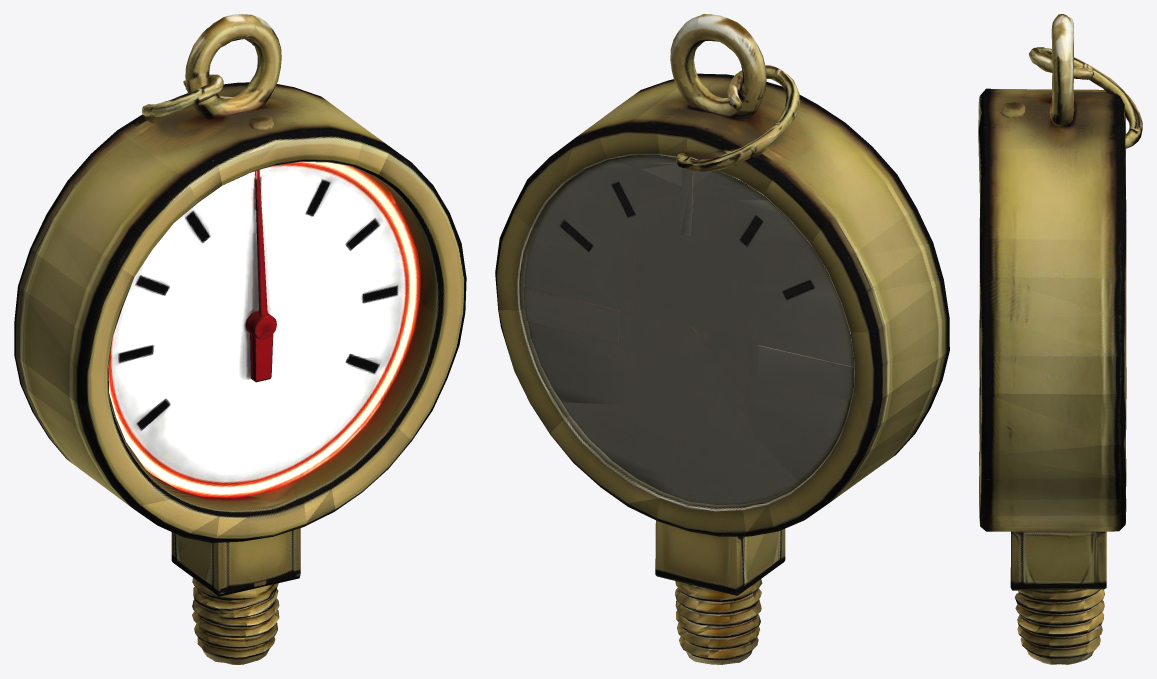
Rendered from pressure_gauge.glb.
3 renders of one model, left to right at view 1: azimuth 30°, elevation 25°; view 2: azimuth 150°, elevation 25°; view 3: azimuth 270°, elevation 25°, orthographic.
Size of the model in its own units: 0.6348 by 1 by 0.2354.
1 material, 1 textured.
